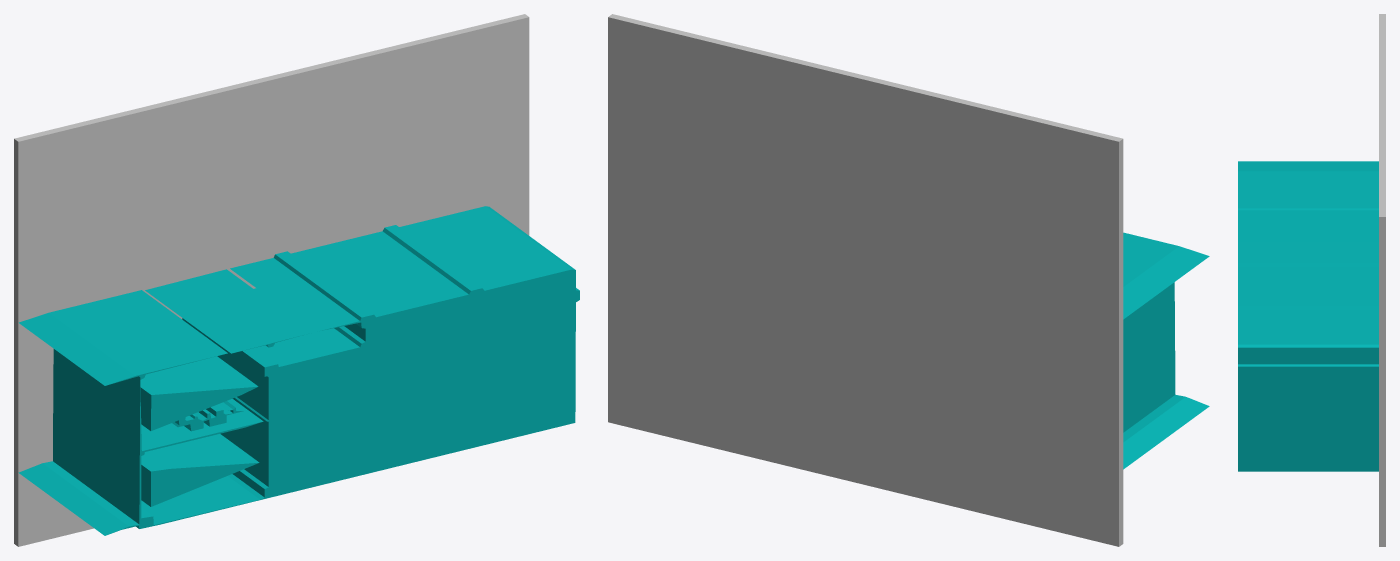
The picture shows the model from 3 angles, left to right: view 1: azimuth 30°, elevation 25°; view 2: azimuth 150°, elevation 25°; view 3: azimuth 270°, elevation 25°; orthographic projection. The views are drawn at different scales.
Visible parts, largest first — view 1: world; view 2: world; view 3: world.
Boxes of the visible parts, x1,y1,x2,y2 form: world: (14,14,579,546); world: (608,14,1209,546); world: (1238,14,1385,546).
Size of the model in its own units: 10.23 by 7.75 by 3.15.
